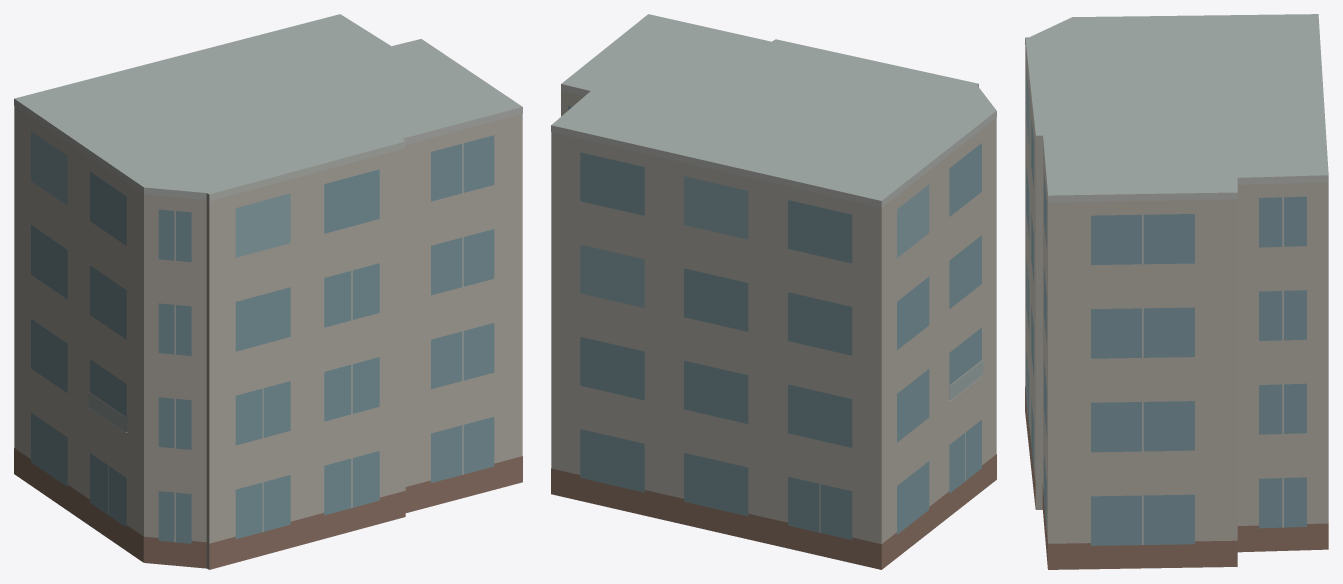
The model's file is survey-upis-32489302.glb.
3 views of the same model, side by side, from view 1: azimuth 30°, elevation 25°; view 2: azimuth 150°, elevation 25°; view 3: azimuth 270°, elevation 25° (orthographic).
Visible parts, largest first — view 1: survey-upis-32489302.tmp; view 2: survey-upis-32489302.tmp; view 3: survey-upis-32489302.tmp.
Part boxes in pixels (left/top/right/bottom): survey-upis-32489302.tmp: left=14, top=14, right=522, bottom=569; survey-upis-32489302.tmp: left=551, top=14, right=996, bottom=569; survey-upis-32489302.tmp: left=1025, top=14, right=1328, bottom=569.
Bounding box in the file's own units: 13.79 × 13.25 × 9.75.
